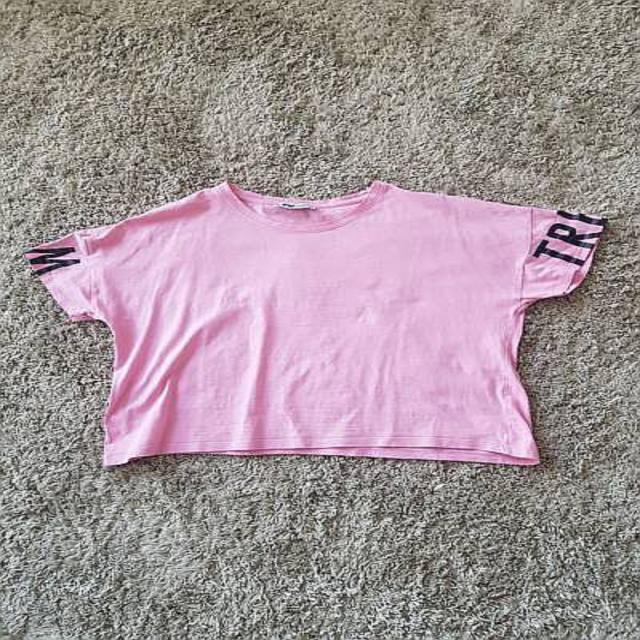T_SHIRT: (7, 166, 623, 480)
